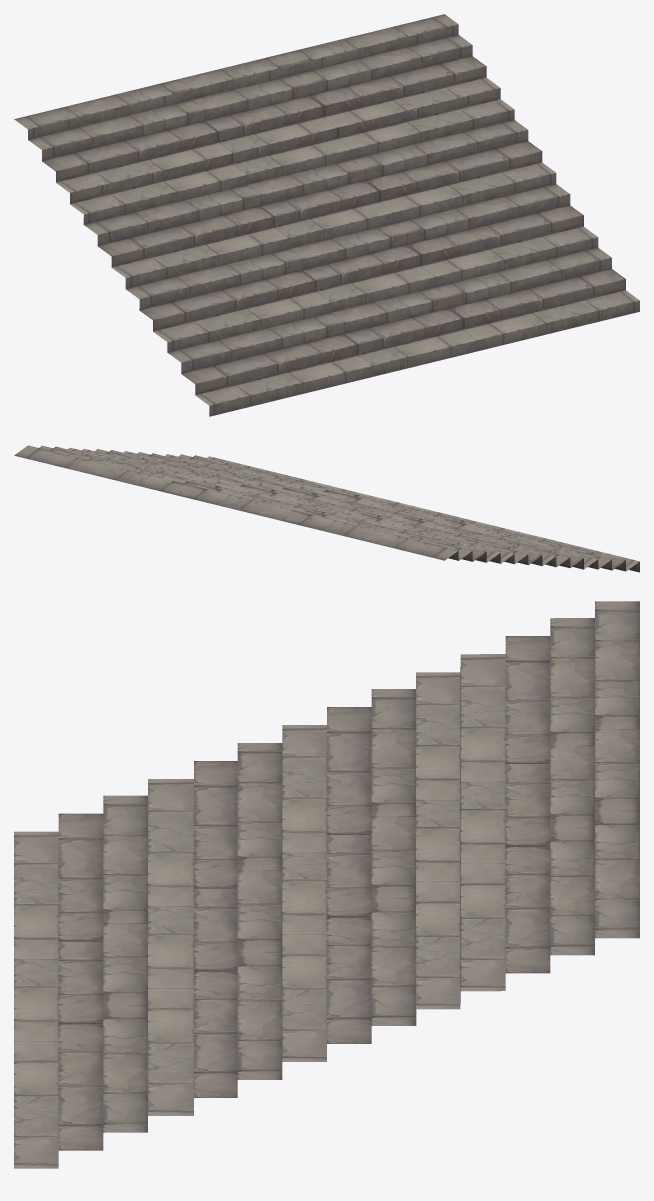
File: cs_lobbynew02_Terrains_jieti01_002.FBX
3 views of the same model, one above another, from view 1: azimuth 30°, elevation 25°; view 2: azimuth 150°, elevation 25°; view 3: azimuth 270°, elevation 25° (orthographic). The views are drawn at different scales.
Parts seen in each view (by area): view 1: cs_lobbynew02_Terrains_jieti01_002; view 2: cs_lobbynew02_Terrains_jieti01_002; view 3: cs_lobbynew02_Terrains_jieti01_002.
Boxes of the visible parts, x1,y1,x2,y2 form: cs_lobbynew02_Terrains_jieti01_002: (14, 14, 639, 416); cs_lobbynew02_Terrains_jieti01_002: (14, 445, 639, 572); cs_lobbynew02_Terrains_jieti01_002: (14, 601, 639, 1168).
Bounding box in the file's own units: 698 × 239 × 547.
